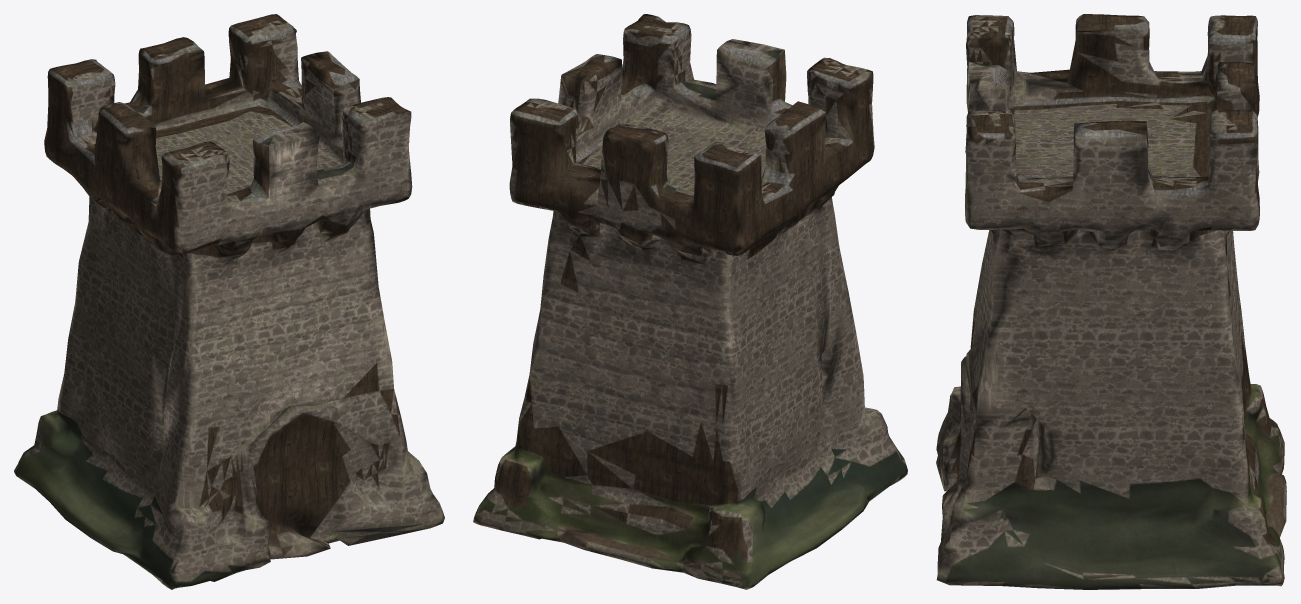
Rendered from tower_square.glb.
3 views of the same model, side by side, from view 1: azimuth 30°, elevation 25°; view 2: azimuth 150°, elevation 25°; view 3: azimuth 270°, elevation 25° (orthographic). The views are drawn at different scales.
Parts seen in each view (by area): view 1: tower_square; view 2: tower_square; view 3: tower_square.
Part boxes in pixels (x1,y1,x2,y2): tower_square: (14, 14, 444, 589); tower_square: (473, 14, 907, 589); tower_square: (936, 14, 1286, 589).
Bounding box in the file's own units: 8.92 × 12 × 8.64.
Materials: 1 (1 with a texture image).
